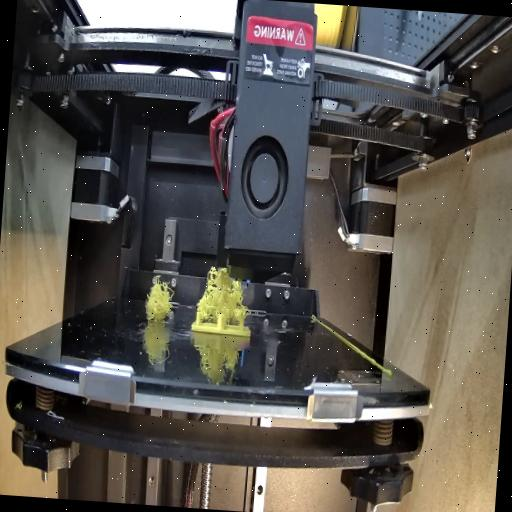spaghetti: (192, 261, 252, 320), (141, 278, 177, 322)
